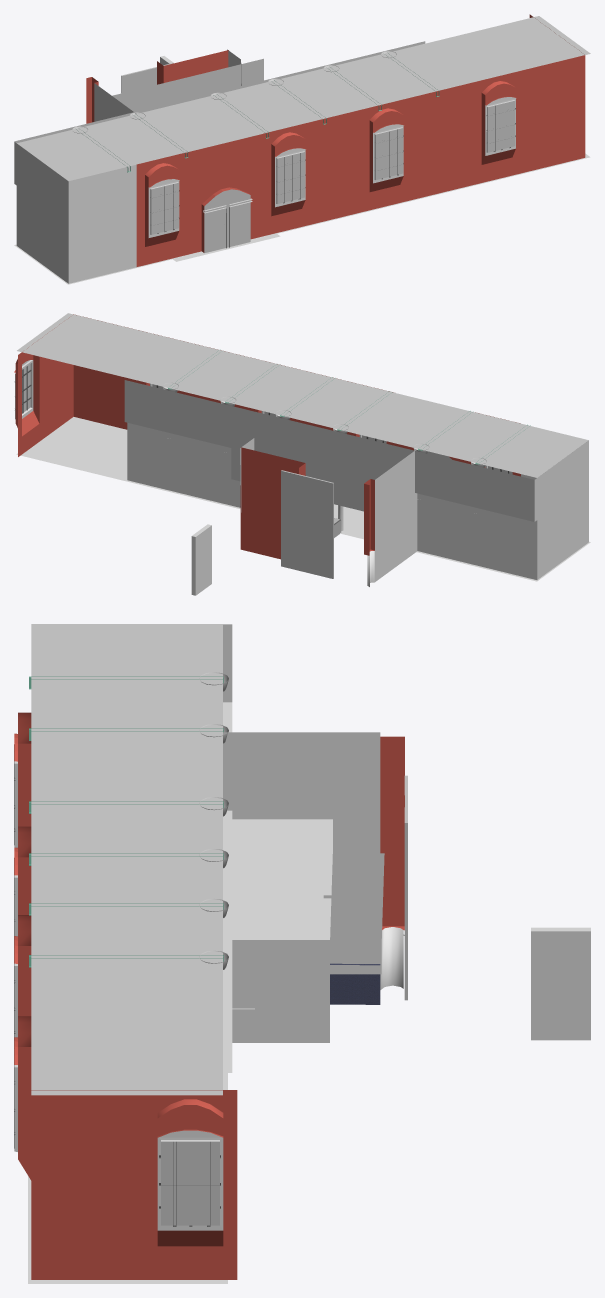
File: Aspex_Entrancewayv1.fbx
The picture shows the model from 3 angles, top to bottom: view 1: azimuth 30°, elevation 25°; view 2: azimuth 150°, elevation 25°; view 3: azimuth 270°, elevation 25°; orthographic projection. The views are drawn at different scales.
Visible parts, largest first — view 1: Cylinder.001, Plane.004, Cylinder.005, Cylinder.004, Cylinder.006, Cylinder.003, Plane.001, Door; view 2: Cylinder.001, Plane.004, Plane.001, Door, Cylinder.007, Cube.002; view 3: Plane.004, Cylinder.001, Cylinder.007, Cube.002, Cylinder.006, Cylinder.005, Cylinder.004, Cylinder.008, Cylinder.003, Plane.001, Door.
Boxes of the visible parts, box(x1,y1,x2,y2) form: Cylinder.001: box(14, 39, 585, 283); Plane.004: box(17, 16, 590, 181); Cylinder.005: box(136, 153, 182, 266); Cylinder.004: box(361, 98, 406, 212); Cylinder.006: box(473, 71, 518, 184); Cylinder.003: box(263, 122, 308, 236); Plane.001: box(14, 153, 590, 284); Door: box(121, 63, 173, 93); Cylinder.001: box(44, 314, 588, 586); Plane.004: box(17, 313, 588, 477); Plane.001: box(16, 417, 590, 581); Door: box(281, 470, 333, 578); Cylinder.007: box(14, 337, 44, 456); Cube.002: box(191, 524, 211, 595); Plane.004: box(29, 624, 223, 1095); Cylinder.001: box(31, 624, 404, 1279); Cylinder.007: box(139, 1090, 237, 1279); Cube.002: box(531, 927, 590, 1040); Cylinder.006: box(14, 1016, 31, 1180); Cylinder.005: box(14, 712, 31, 847); Cylinder.004: box(14, 915, 31, 1037); Cylinder.008: box(330, 963, 380, 1004); Cylinder.003: box(14, 826, 31, 936); Plane.001: box(28, 1073, 227, 1283); Door: box(403, 775, 407, 1000).
Size of the model in its own units: 3752 by 715 by 1928.
